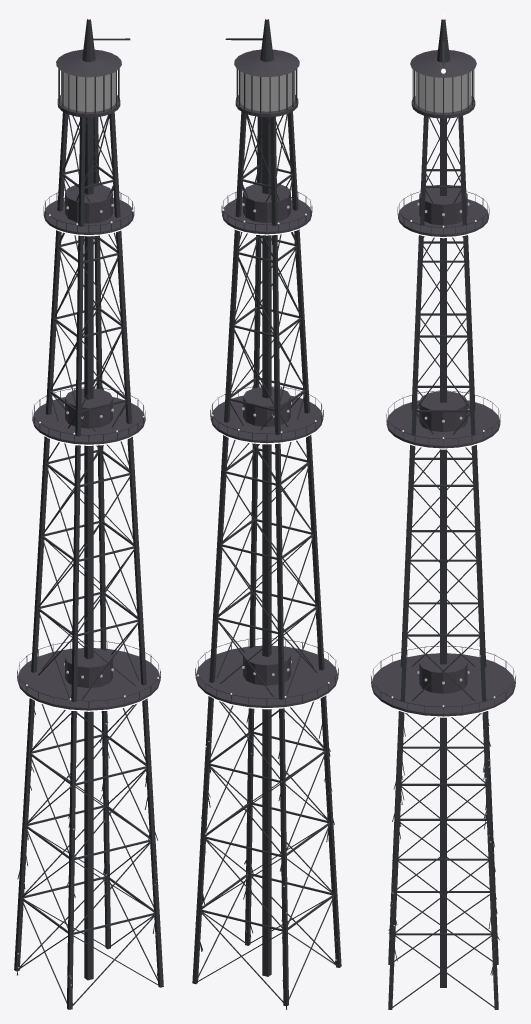
File: mooring_mast.glb
3 views of the same model, side by side, from view 1: azimuth 30°, elevation 25°; view 2: azimuth 150°, elevation 25°; view 3: azimuth 270°, elevation 25° (orthographic).
Visible parts, largest first — view 1: mooring_mast; view 2: mooring_mast; view 3: mooring_mast.
Boxes of the visible parts, box(x1,y1,x2,y2) form: mooring_mast: box(14, 14, 163, 1009); mooring_mast: box(192, 14, 341, 1009); mooring_mast: box(370, 14, 516, 1009).
Bounding box in the file's own units: 19.28 × 142 × 19.24.
7 materials, 2 textured.
